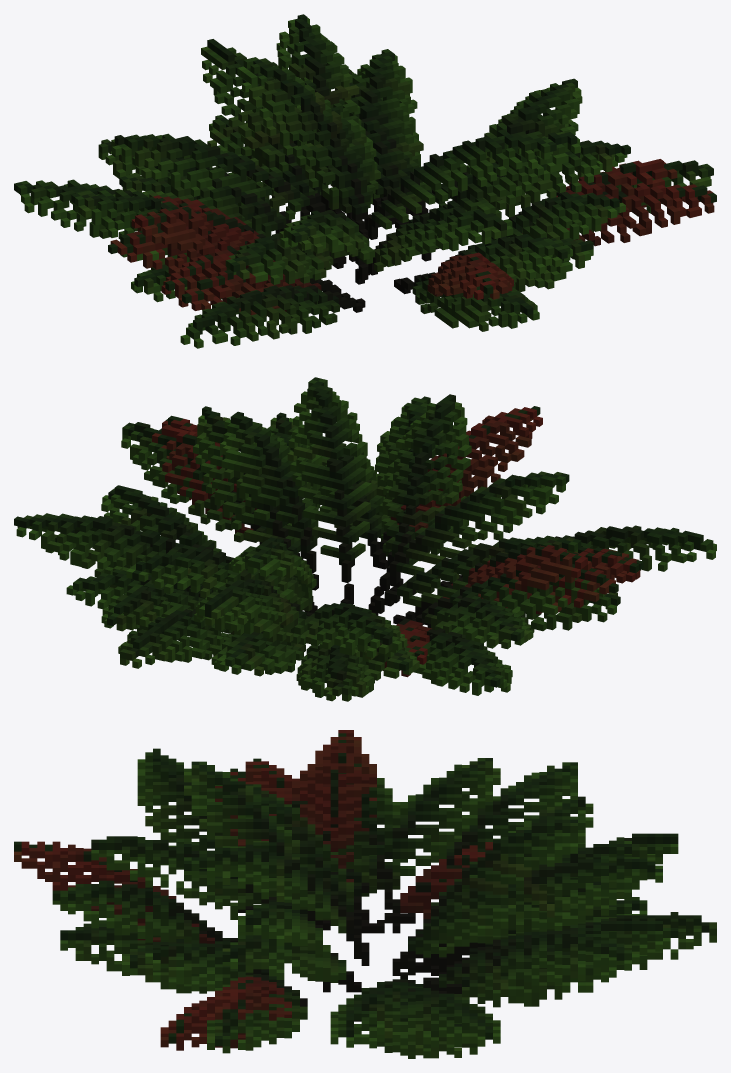
The model's file is samambaia_baixa_densa_01_LOD0.fbx.
3 views of the same model, one above another, from view 1: azimuth 30°, elevation 25°; view 2: azimuth 150°, elevation 25°; view 3: azimuth 270°, elevation 25° (orthographic). The views are drawn at different scales.
Parts seen in each view (by area): view 1: samambaia_baixa_densa_01_LOD0; view 2: samambaia_baixa_densa_01_LOD0; view 3: samambaia_baixa_densa_01_LOD0.
Part boxes in pixels (x1,y1,x2,y2): samambaia_baixa_densa_01_LOD0: [14, 14, 716, 348]; samambaia_baixa_densa_01_LOD0: [14, 377, 716, 701]; samambaia_baixa_densa_01_LOD0: [14, 730, 716, 1058].
Size of the model in its own units: 114 by 28.75 by 114.
